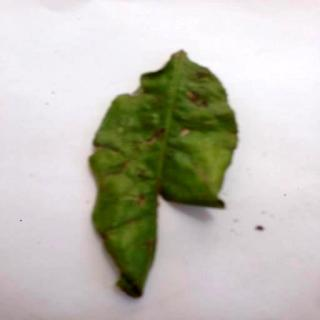Algal Leaf: (92, 51, 241, 299)
